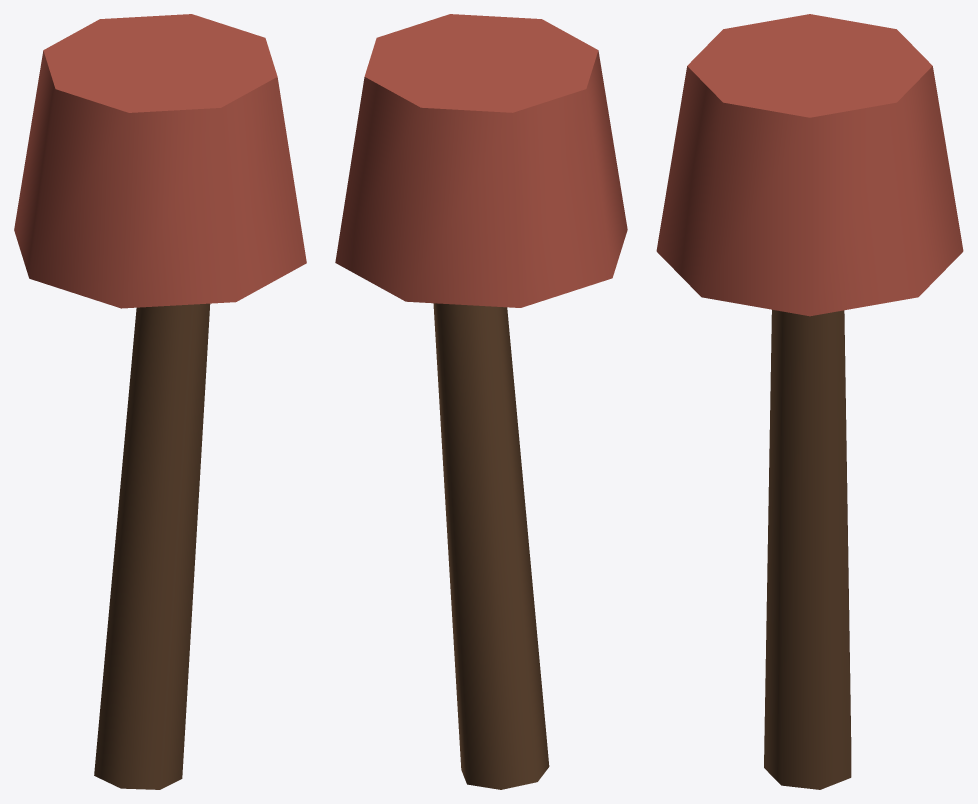
The model's file is child_02_role.glb.
3 views of the same model, side by side, from view 1: azimuth 30°, elevation 25°; view 2: azimuth 150°, elevation 25°; view 3: azimuth 270°, elevation 25° (orthographic).
Parts seen in each view (by area): view 1: role_symbol, role_handle; view 2: role_symbol, role_handle; view 3: role_symbol, role_handle.
Boxes of the visible parts, x1,y1,x2,y2 form: role_symbol: (14, 14, 306, 308); role_handle: (94, 303, 210, 789); role_symbol: (335, 14, 627, 307); role_handle: (433, 303, 549, 789); role_symbol: (656, 14, 963, 316); role_handle: (764, 309, 851, 789).
Bounding box in the file's own units: 0.3 × 0.7725 × 0.3.
